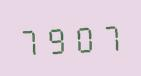nine: (44, 21, 69, 56)
seven: (18, 22, 43, 57), (96, 18, 121, 53)
zero: (70, 20, 95, 54)
